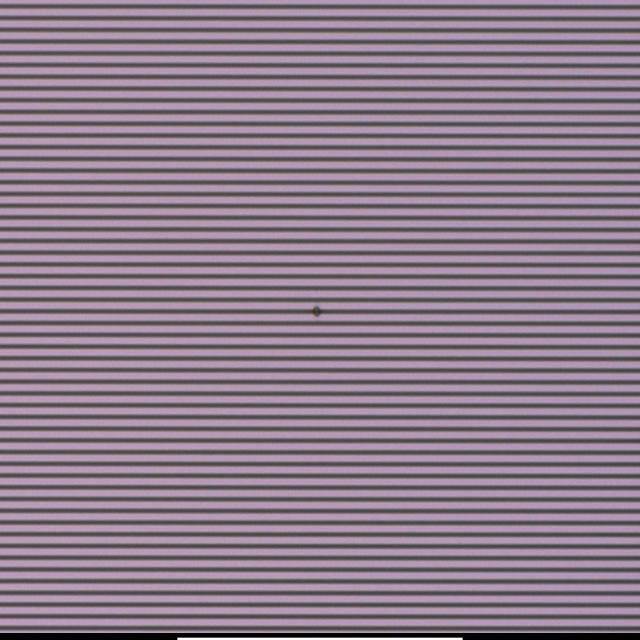03_intrusion: (306, 302, 328, 322)
